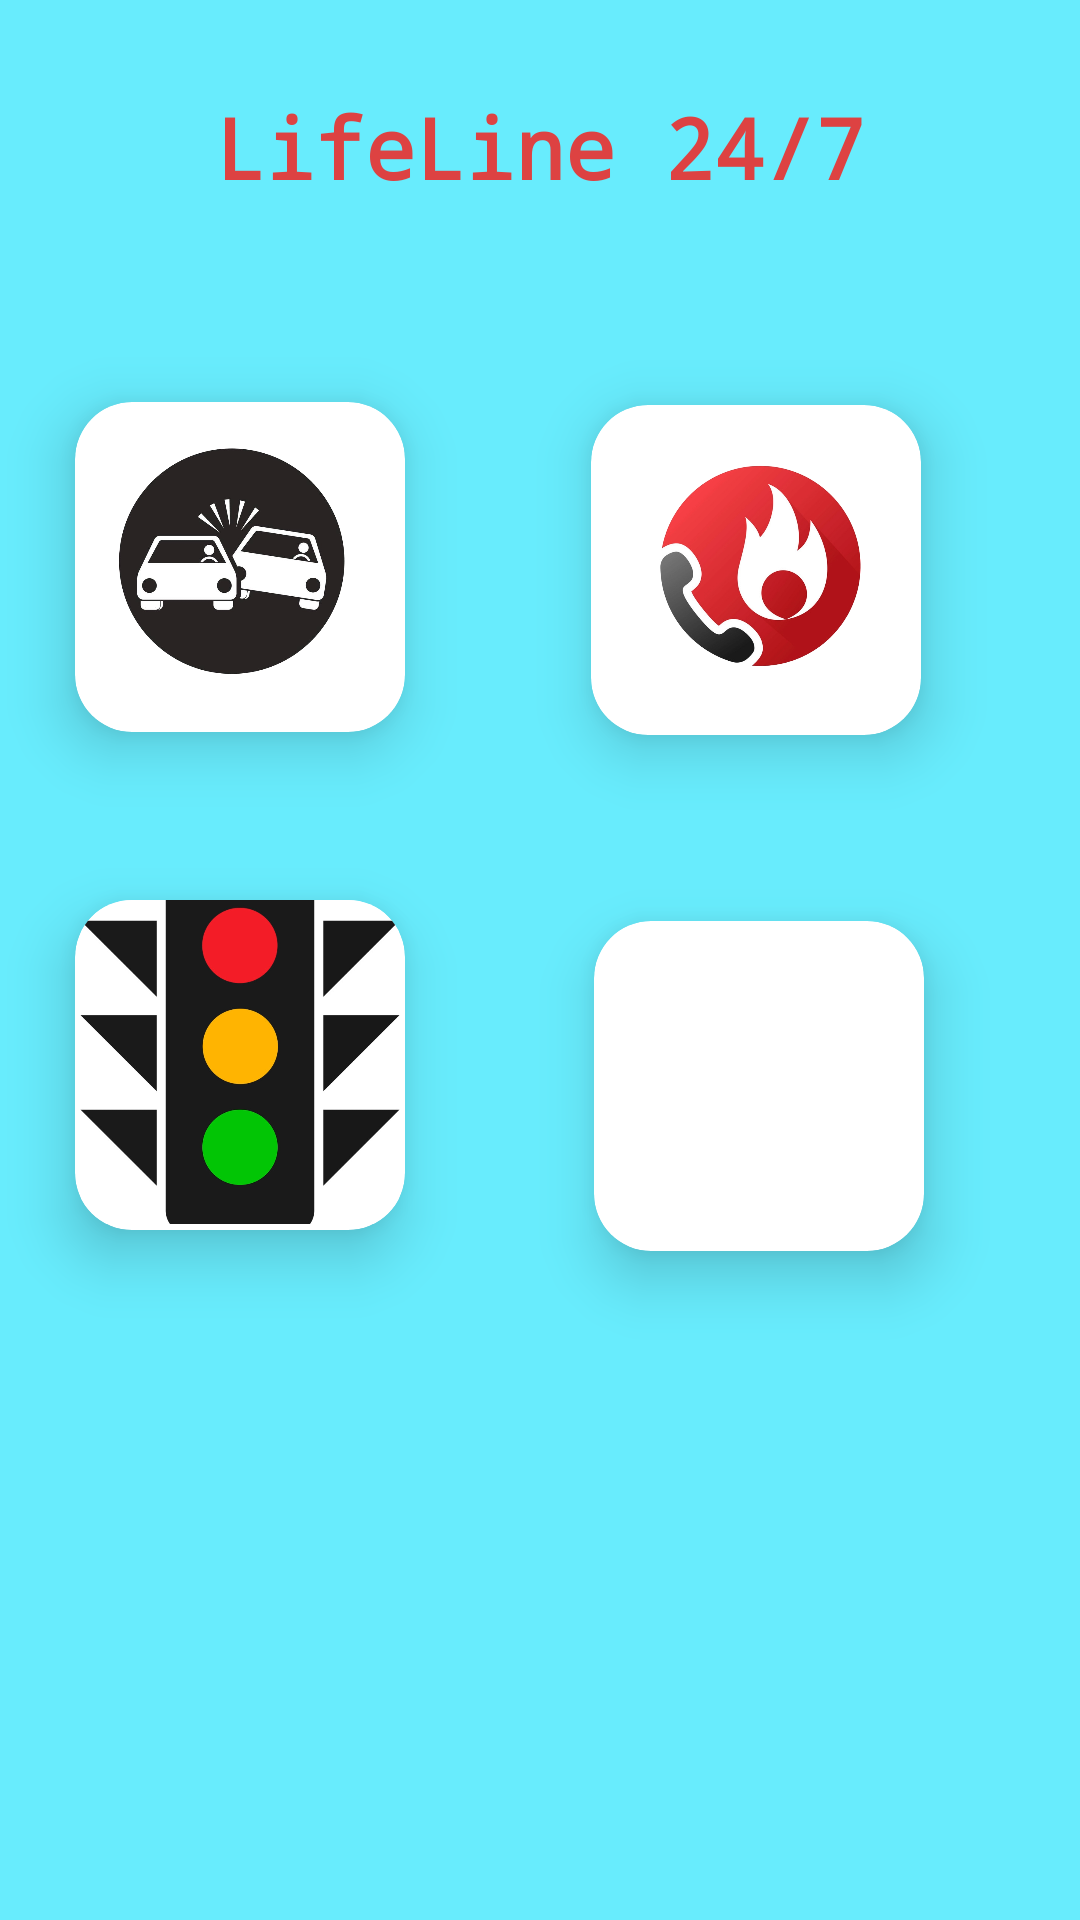

Icons on this 1080 × 1920 Android screen, each with its box as (x1, y1, x2, y2):
fire: (660, 466, 861, 666)
